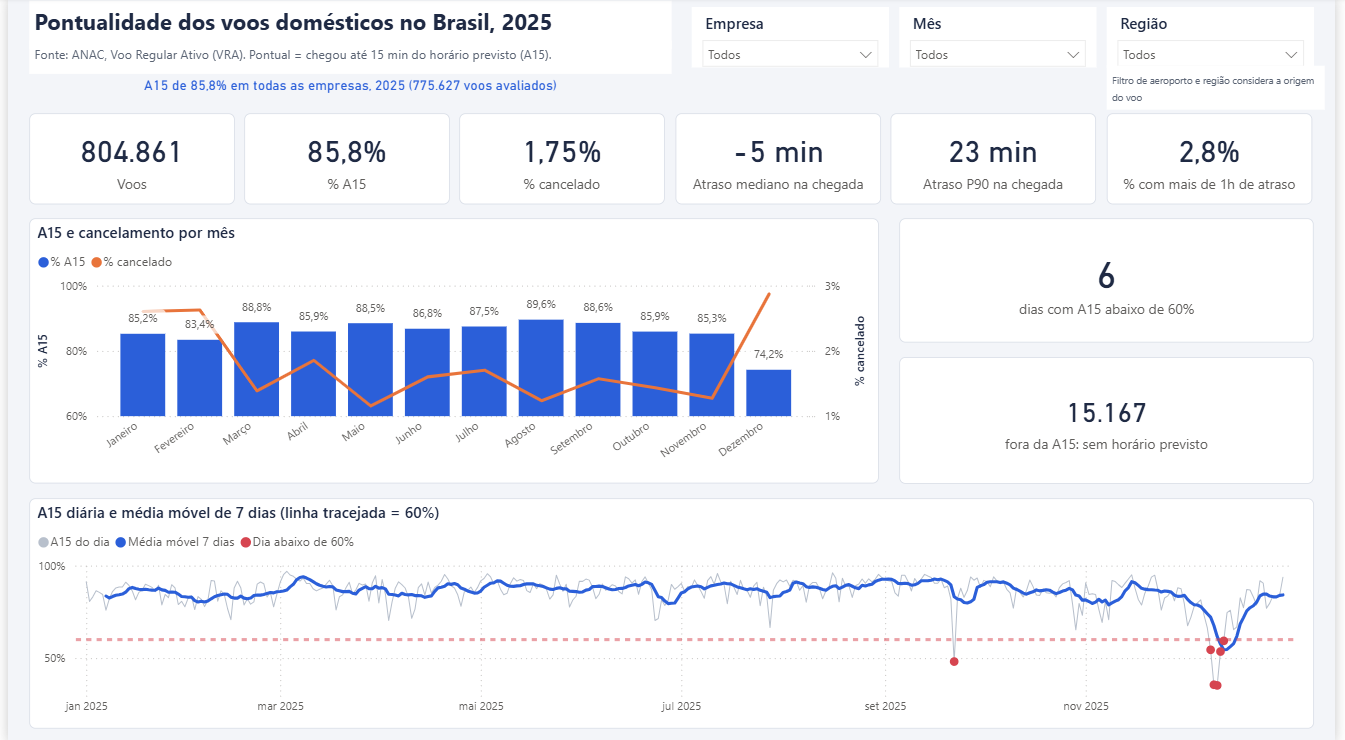

The page's visual inventory and layout, read from the dashboard file:
{"tool":"powerbi","page":{"name":"Visão geral","canvas":[1280,720],"ordinal":0},"visuals":[{"type":"textbox","box":[20,4,620,46],"z":1000},{"type":"textbox","box":[20,42,620,32],"z":2000},{"type":"card","fields":{"Values":["_Medidas.Título Dinâmico"]},"box":[20,70,620,34],"z":3000},{"type":"slicer","fields":{"Values":["dim_empresa.nome"]},"box":[660,10,190,58],"z":4000},{"type":"slicer","fields":{"Values":["dim_data.nome_mes"]},"box":[860,10,190,58],"z":5000},{"type":"slicer","fields":{"Values":["dim_aeroporto.regiao"]},"box":[1060,10,200,58],"z":6000},{"type":"textbox","box":[1060,66,210,42],"z":7000},{"type":"card","fields":{"Values":["_Medidas.Voos"]},"box":[20,112,198,88],"z":8000},{"type":"card","fields":{"Values":["_Medidas.% A15"]},"box":[228,112,198,88],"z":9000},{"type":"card","fields":{"Values":["_Medidas.% Cancelado"]},"box":[436,112,198,88],"z":10000},{"type":"card","fields":{"Values":["_Medidas.Atraso Mediano Chegada"]},"box":[644,112,198,88],"z":11000},{"type":"card","fields":{"Values":["_Medidas.Atraso P90 Chegada"]},"box":[852,112,198,88],"z":12000},{"type":"card","fields":{"Values":["_Medidas.% Voos +60min"]},"box":[1060,112,198,88],"z":13000},{"type":"lineClusteredColumnComboChart","title":"A15 e cancelamento por mês","fields":{"Category":["dim_data.nome_mes"],"Y":["_Medidas.% A15"],"Y2":["_Medidas.% Cancelado"]},"box":[20,214,820,256],"z":14000},{"type":"card","fields":{"Values":["_Medidas.Dias Abaixo de 60%"]},"box":[860,214,400,120],"z":15000},{"type":"card","fields":{"Values":["_Medidas.Voos Sem Horário Previsto"]},"box":[860,348,400,122],"z":16000},{"type":"lineChart","title":"A15 diária e média móvel de 7 dias (linha tracejada = 60%)","fields":{"Category":["dim_data.data"],"Y":["_Medidas.% A15","_Medidas.A15 Média Móvel 7 Dias","_Medidas.Marcador Dia Abaixo de 60%"]},"box":[20,484,1240,222],"z":17000}]}

Visuals, with their boxes in screenshot pixels (x1, y1, x2, y2), scaled from the page's 1280x720 canvas onto the 1345x740 screenshot:
textbox: detection(21, 4, 672, 51)
textbox: detection(21, 43, 672, 76)
card - _Medidas.Título Dinâmico: detection(21, 72, 672, 107)
slicer - dim_empresa.nome: detection(694, 10, 893, 70)
slicer - dim_data.nome_mes: detection(904, 10, 1103, 70)
slicer - dim_aeroporto.regiao: detection(1114, 10, 1324, 70)
textbox: detection(1114, 68, 1334, 111)
card - _Medidas.Voos: detection(21, 115, 229, 206)
card - _Medidas.% A15: detection(240, 115, 448, 206)
card - _Medidas.% Cancelado: detection(458, 115, 666, 206)
card - _Medidas.Atraso Mediano Chegada: detection(677, 115, 885, 206)
card - _Medidas.Atraso P90 Chegada: detection(895, 115, 1103, 206)
card - _Medidas.% Voos +60min: detection(1114, 115, 1322, 206)
"A15 e cancelamento por mês" lineClusteredColumnComboChart: detection(21, 220, 883, 483)
card - _Medidas.Dias Abaixo de 60%: detection(904, 220, 1324, 343)
card - _Medidas.Voos Sem Horário Previsto: detection(904, 358, 1324, 483)
"A15 diária e média móvel de 7 dias (linha tracejada = 60%)" lineChart: detection(21, 497, 1324, 726)
